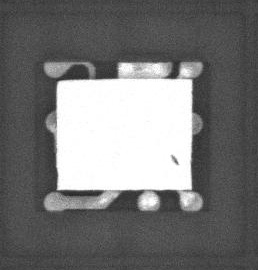DIE_INK: (162, 160, 172, 173)
